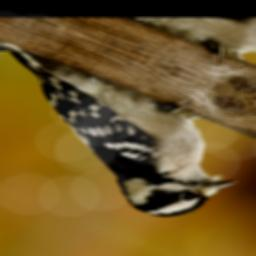Woodpecker: (0, 38, 256, 235)
